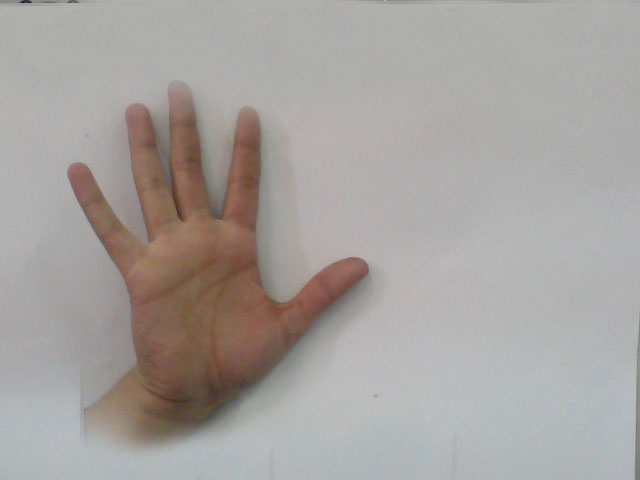hand: (52, 67, 389, 393)
